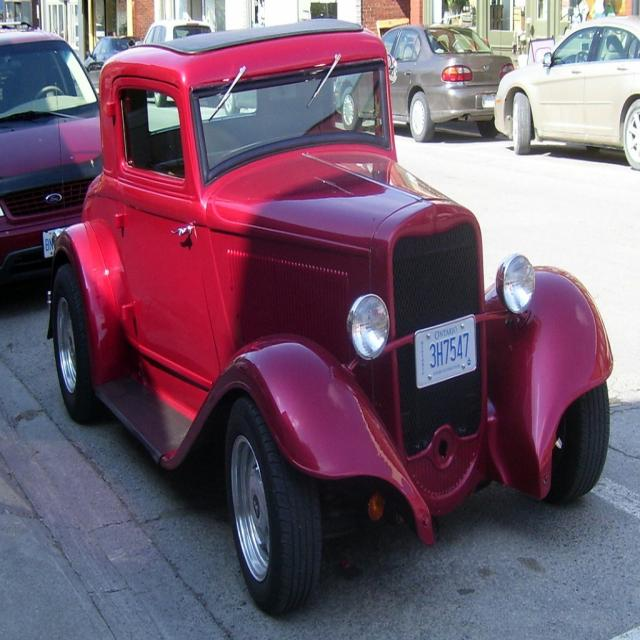car: (43, 30, 593, 607)
